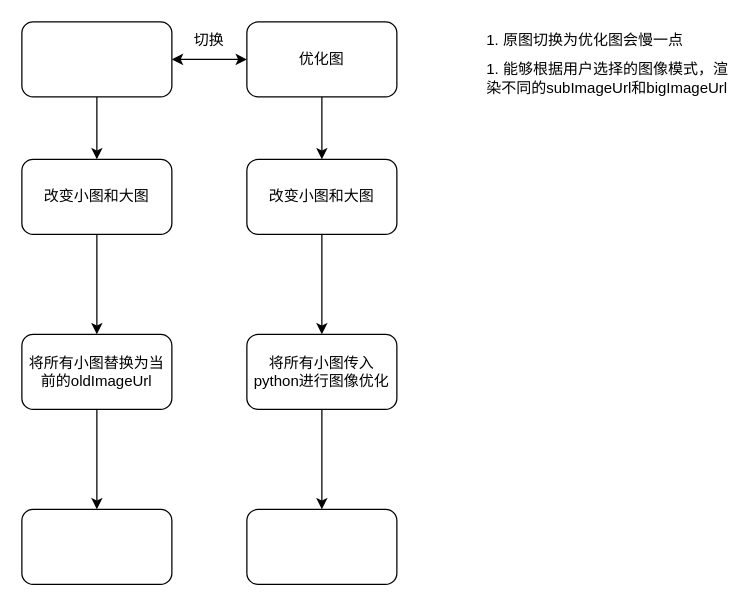
Image size: 756x606. Some labels were removed from this diagram. The centre of each missing label's shape, as x and y in pixels:
"原图" belongs at (x=96, y=59).
"将优化过后的小图拼接成一张优化大图" belongs at (x=321, y=546).
"将大图替换为oldImageUrl" belongs at (x=96, y=546).
